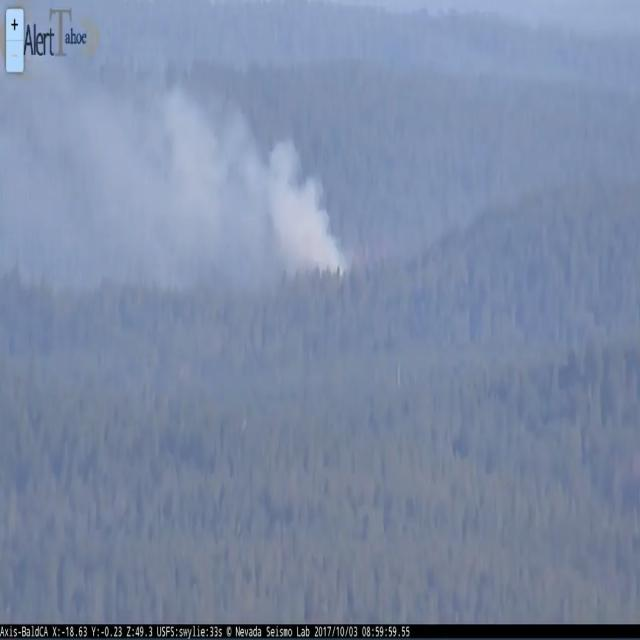smoke: (3, 83, 351, 285)
